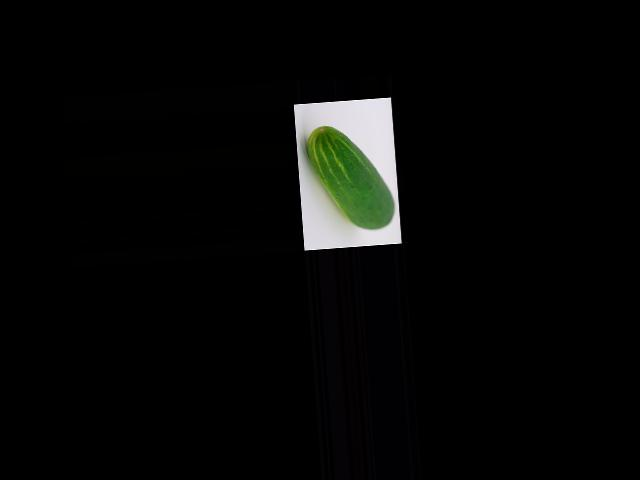cucumber: (305, 121, 395, 234)
